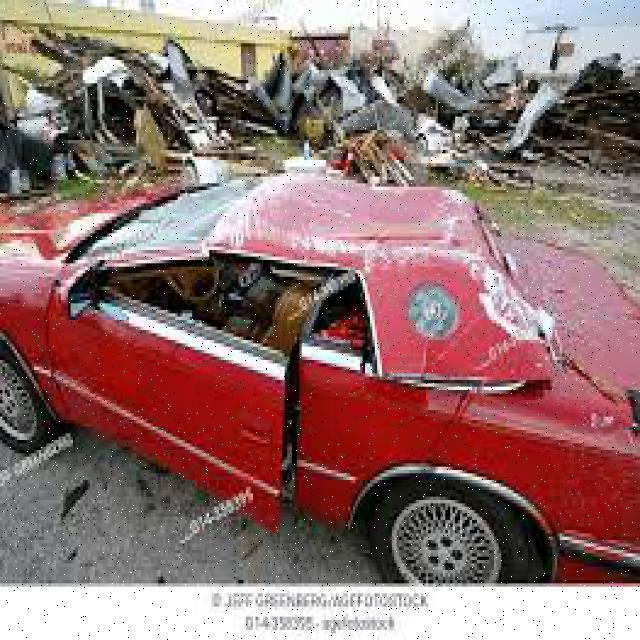roof-dent: (219, 173, 528, 317)
